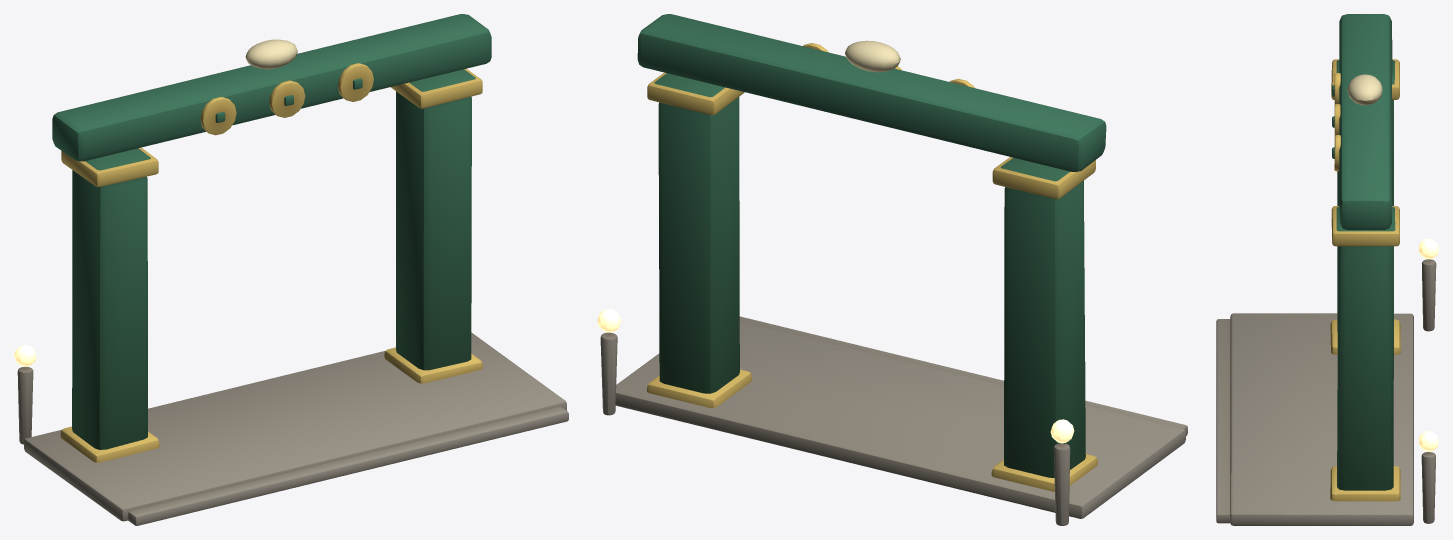
The picture shows the model from 3 angles, left to right: view 1: azimuth 30°, elevation 25°; view 2: azimuth 150°, elevation 25°; view 3: azimuth 270°, elevation 25°; orthographic projection. The views are drawn at different scales.
Parts seen in each view (by area): view 1: gate_38a6bf3d; view 2: gate_38a6bf3d; view 3: gate_38a6bf3d.
Boxes of the visible parts, x1=… form: gate_38a6bf3d: x1=14, y1=14, x2=568, y2=525; gate_38a6bf3d: x1=597, y1=14, x2=1187, y2=525; gate_38a6bf3d: x1=1216, y1=14, x2=1438, y2=525.
Size of the model in its own units: 5.46 by 4.38 by 2.54.
